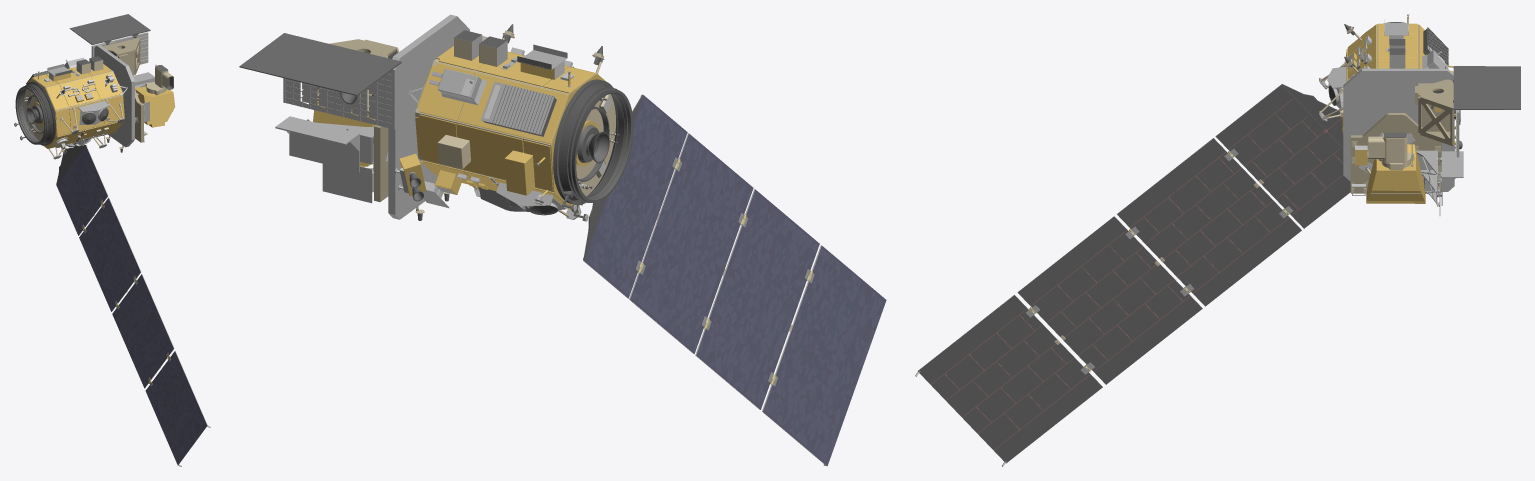
The model's file is landsat8.glb.
The picture shows the model from 3 angles, left to right: view 1: azimuth 30°, elevation 25°; view 2: azimuth 150°, elevation 25°; view 3: azimuth 270°, elevation 25°; orthographic projection. The views are drawn at different scales.
Parts seen in each view (by area): view 1: Layer_0; view 2: Layer_0; view 3: Layer_0.
Boxes of the visible parts, <box> form: Layer_0: <box>14,14,210,466</box>; Layer_0: <box>239,14,886,466</box>; Layer_0: <box>915,14,1520,466</box>.
Bounding box in the file's own units: 4.97 × 10.04 × 12.26.
